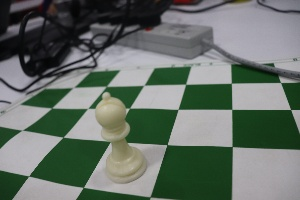white_bishop: (76, 75, 155, 189)
